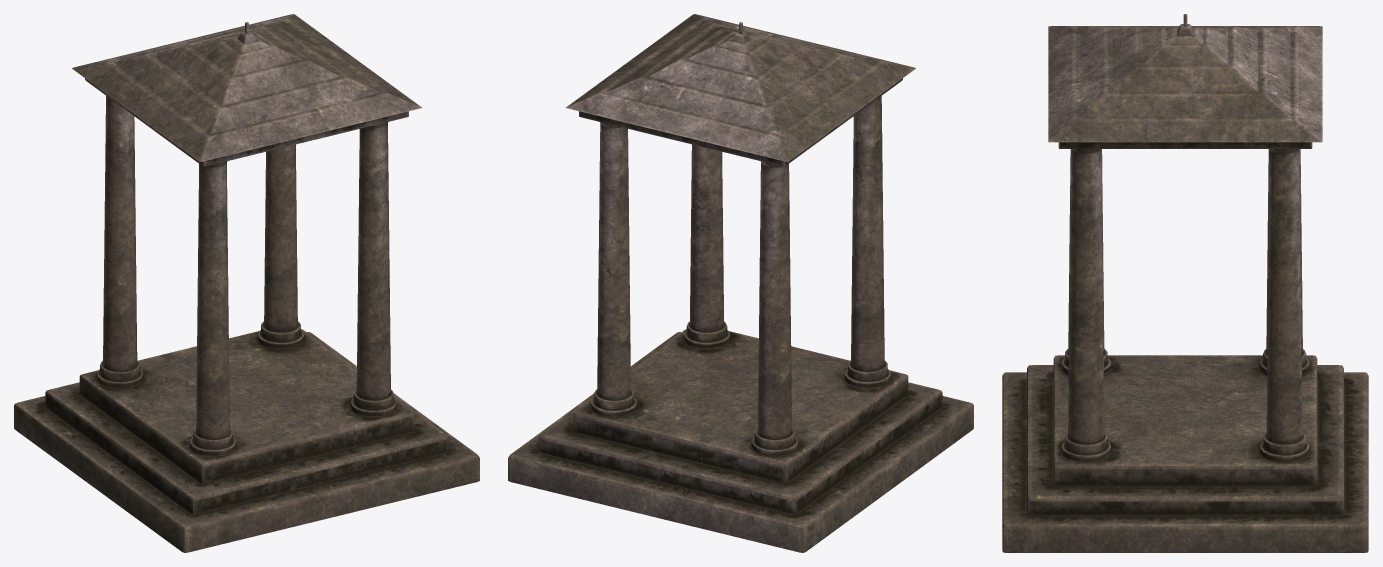
File: SM_gravestone_63.fbx
The picture shows the model from 3 angles, left to right: view 1: azimuth 30°, elevation 25°; view 2: azimuth 150°, elevation 25°; view 3: azimuth 270°, elevation 25°; orthographic projection. The views are drawn at different scales.
Visible parts, largest first — view 1: SM_gravestone_063; view 2: SM_gravestone_063; view 3: SM_gravestone_063.
Boxes of the visible parts, x1,y1,x2,y2 form: SM_gravestone_063: (14,14,479,552); SM_gravestone_063: (508,14,973,552); SM_gravestone_063: (1002,14,1368,552).
Size of the model in its own units: 238 by 331 by 238.
